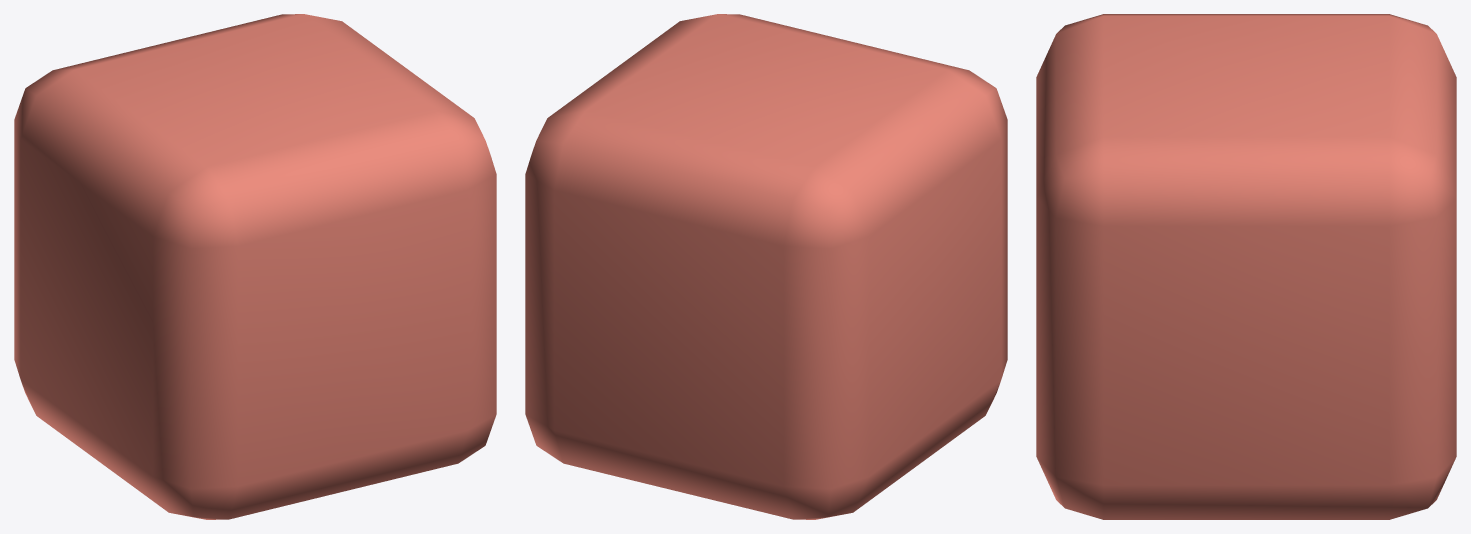
Rendered from Jelly (2).fbx.
3 views of the same model, side by side, from view 1: azimuth 30°, elevation 25°; view 2: azimuth 150°, elevation 25°; view 3: azimuth 270°, elevation 25° (orthographic). The views are drawn at different scales.
Parts seen in each view (by area): view 1: Jelly; view 2: Jelly; view 3: Jelly.
Boxes of the visible parts, box(x1,y1,x2,y2) form: Jelly: box(14, 14, 496, 519); Jelly: box(525, 14, 1007, 519); Jelly: box(1036, 14, 1456, 519).
Bounding box in the file's own units: 100 × 100 × 100.
